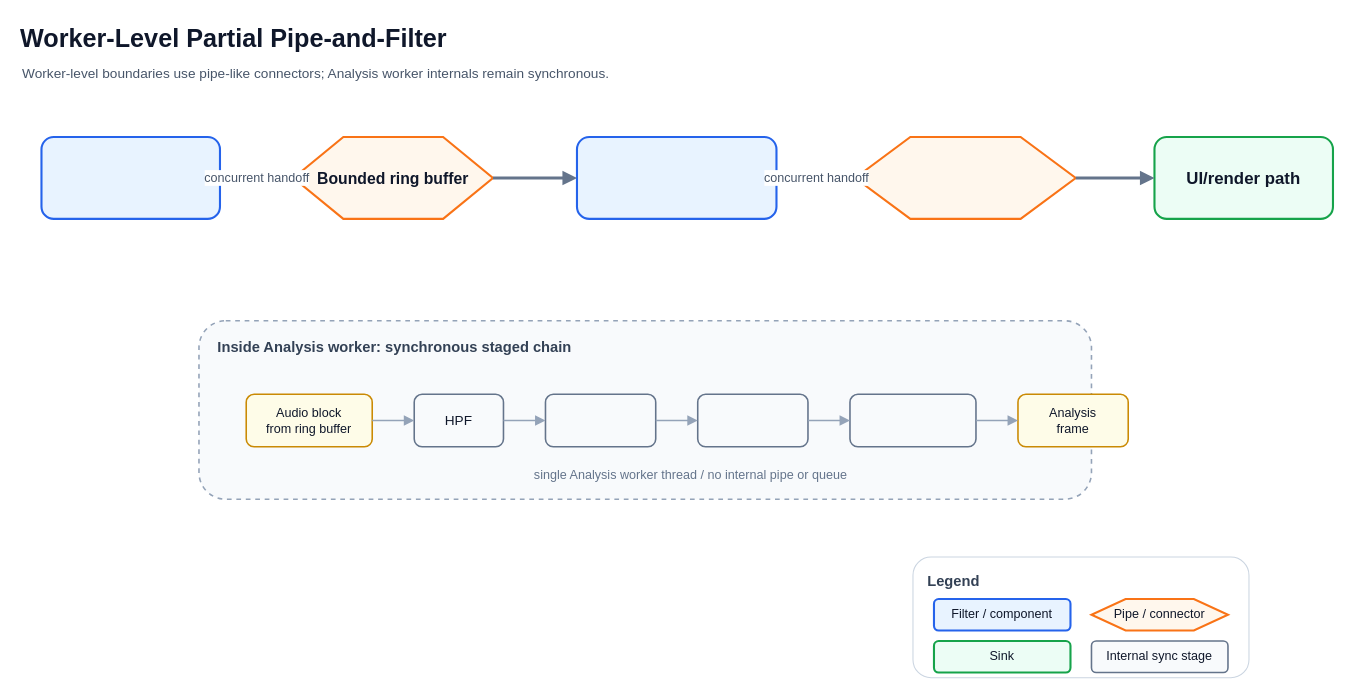
Image size: 1351x696. Some labels were removed from this diagram. Here are the shapes that lost their labels. From the top down, the centre of each, then its label:
point (130, 177): Input worker
point (676, 177): Analysis worker
point (965, 177): Latest-wins frame scheduler
point (600, 420): Envelope
point (752, 420): Detector
point (912, 420): Metrics / Projectors
